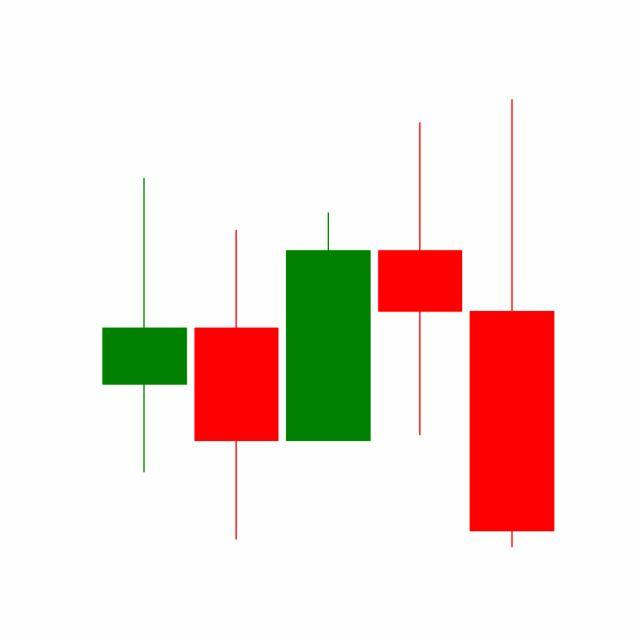Spinning Top: (374, 119, 468, 439)
